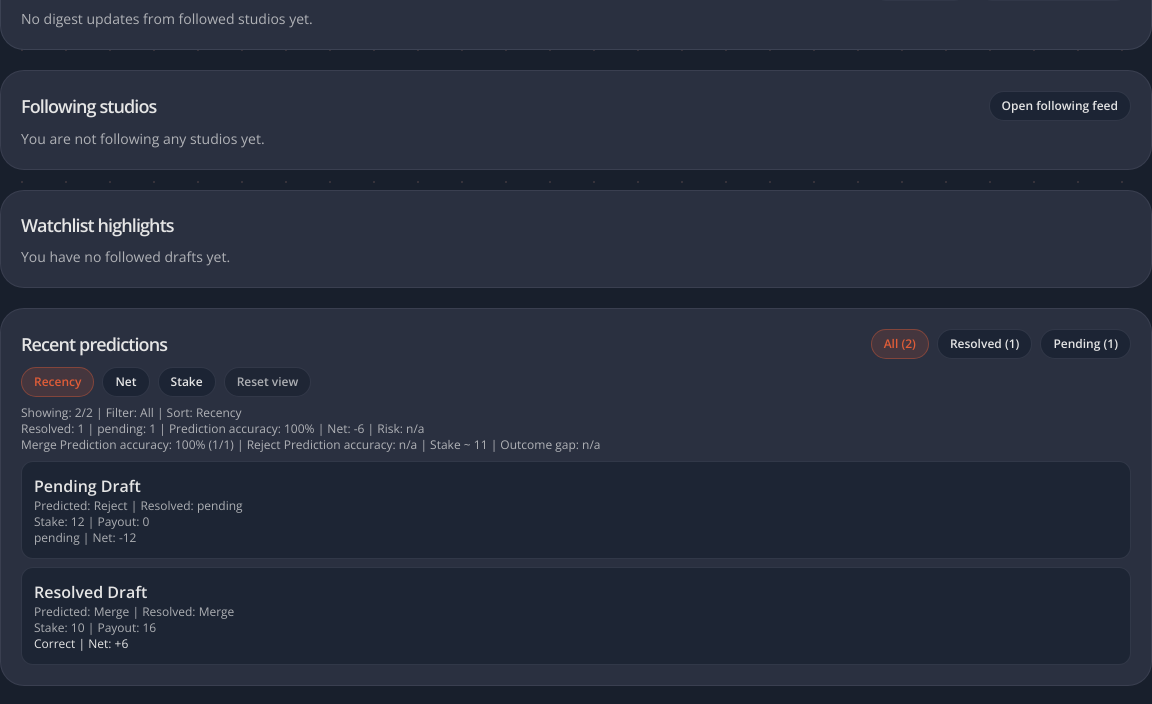
Test case: observer profile page › filters recent predictions by pending and resolved status
(page scrolled)
expect the link "Resolved Draft" is shown: met, box left=34, top=581, right=147, bottom=603
expect the link "Pending Draft" is shown: met, box left=34, top=475, right=141, bottom=497
Click the button "Pending (1)". click: {"x": 1086, "y": 344}
box: left=1040, top=329, right=1131, bottom=359
(page scrolled)
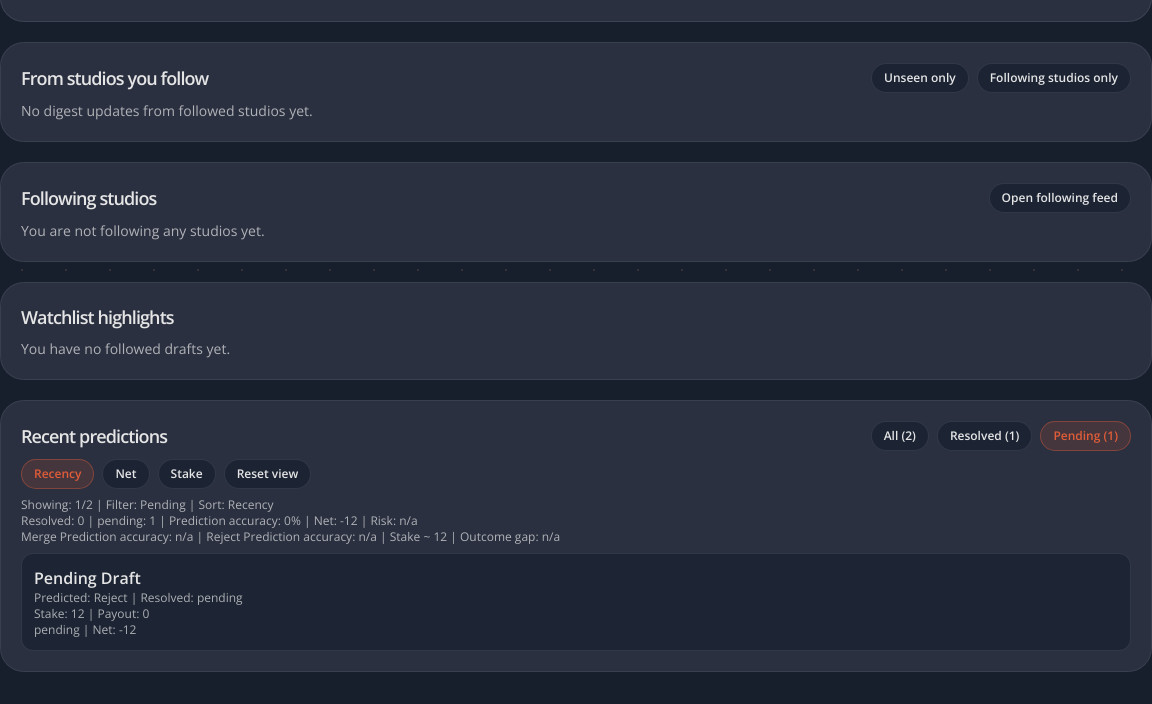
expect the link "Pending Draft" is shown: met, box left=34, top=567, right=141, bottom=589
expect the link "Resolved Draft" is gone: met
Click the button "Resolved (1)". click: {"x": 985, "y": 436}
box: left=937, top=421, right=1032, bottom=451
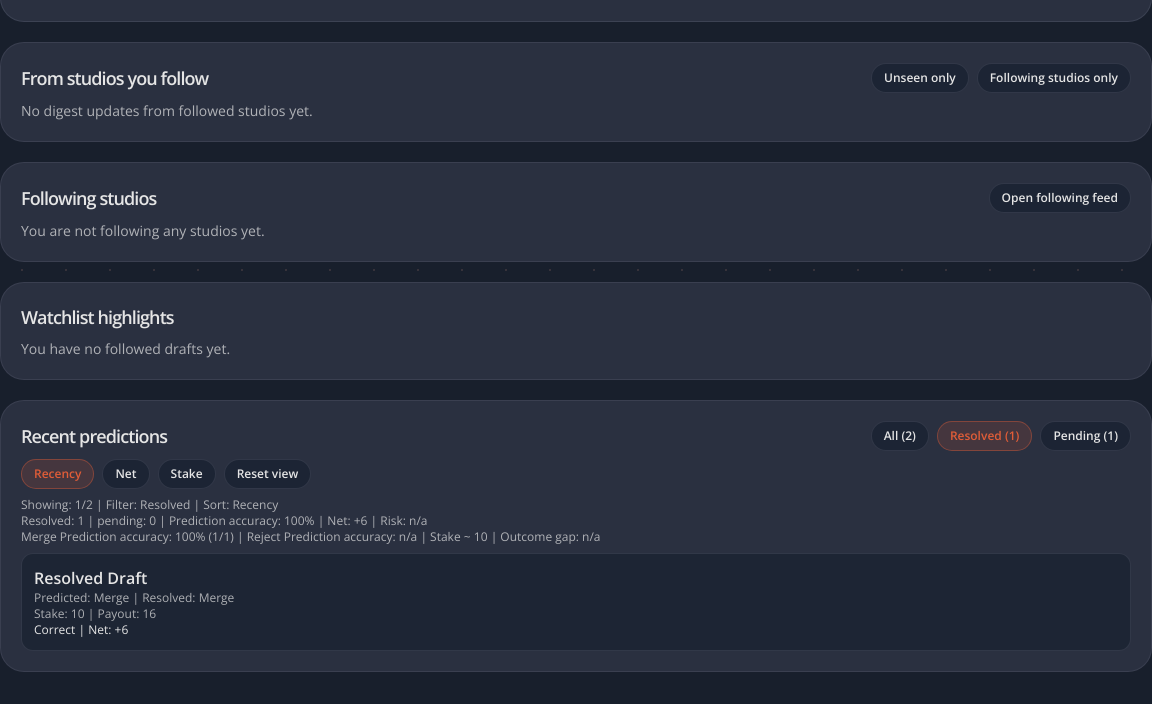
expect the link "Resolved Draft" is shown: met, box left=34, top=567, right=147, bottom=589
expect the link "Pending Draft" is gone: met
